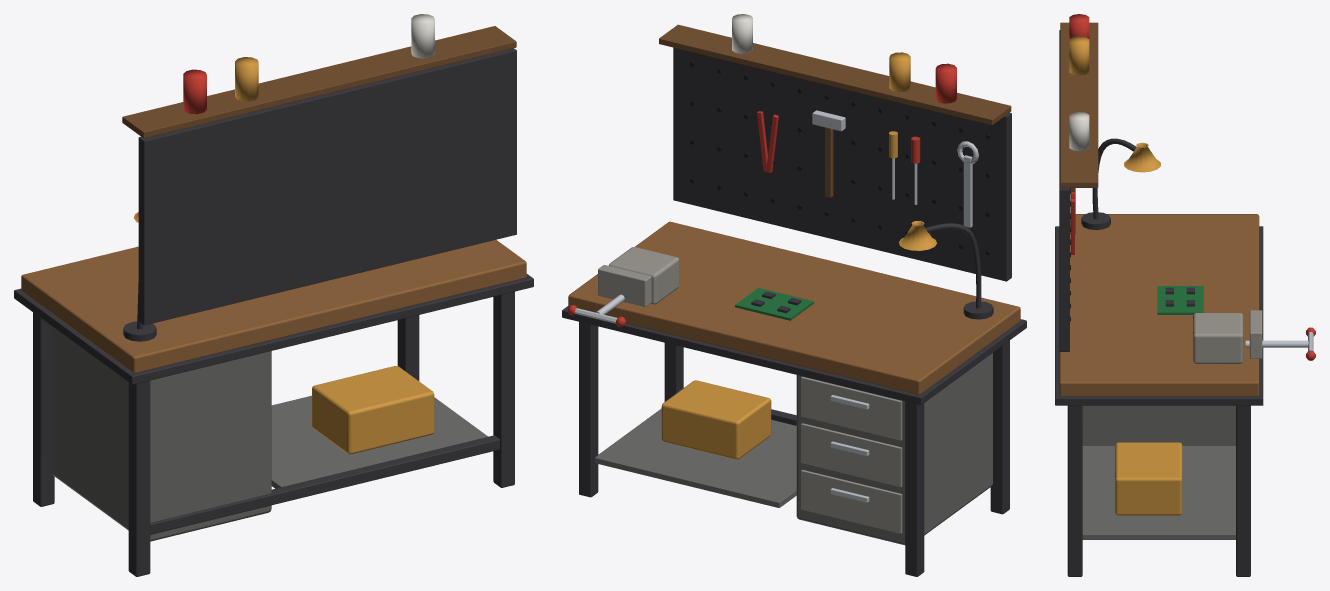
The model's file is station_T.glb.
3 views of the same model, side by side, from view 1: azimuth 30°, elevation 25°; view 2: azimuth 150°, elevation 25°; view 3: azimuth 270°, elevation 25° (orthographic). The views are drawn at different scales.
Parts seen in each view (by area): view 1: station_T_graph, station_T_greyd, top, station_T_wood_d, station_T_amber, station_T_red, can_2; view 2: station_T_graph, top, station_T_greyd, station_T_grey, station_T_amber, station_T_wood_d, station_T_steel, station_T_red, pcb, station_T_rubber, can_2; view 3: top, station_T_greyd, station_T_graph, station_T_amber, station_T_wood_d, station_T_grey, pcb, can_2, station_T_red, station_T_steel.
Part boxes in pixels (bbox=[...]): station_T_graph: bbox=[14, 48, 533, 576]; station_T_greyd: bbox=[52, 326, 487, 541]; top: bbox=[21, 240, 526, 373]; station_T_wood_d: bbox=[122, 26, 516, 138]; station_T_amber: bbox=[133, 57, 434, 454]; station_T_red: bbox=[183, 69, 206, 114]; can_2: bbox=[411, 14, 434, 58]; station_T_graph: bbox=[562, 47, 1026, 576]; top: bbox=[568, 221, 1020, 394]; station_T_greyd: bbox=[595, 353, 992, 545]; station_T_grey: bbox=[598, 247, 902, 533]; station_T_amber: bbox=[661, 52, 936, 459]; station_T_wood_d: bbox=[659, 24, 1011, 197]; station_T_steel: bbox=[595, 110, 978, 502]; station_T_red: bbox=[757, 63, 956, 172]; pcb: bbox=[735, 287, 813, 320]; station_T_rubber: bbox=[690, 62, 990, 255]; can_2: bbox=[732, 14, 752, 53]; top: bbox=[1059, 214, 1259, 396]; station_T_greyd: bbox=[1082, 405, 1235, 539]; station_T_graph: bbox=[1055, 30, 1263, 576]; station_T_amber: bbox=[1069, 36, 1182, 515]; station_T_wood_d: bbox=[1060, 22, 1098, 234]; station_T_grey: bbox=[1193, 310, 1262, 363]; pcb: bbox=[1157, 286, 1203, 314]; can_2: bbox=[1069, 112, 1089, 151]; station_T_red: bbox=[1069, 14, 1089, 254]; station_T_steel: bbox=[1245, 340, 1308, 347].
Bounding box in the file's own units: 1.94 × 2.23 × 1.24.
